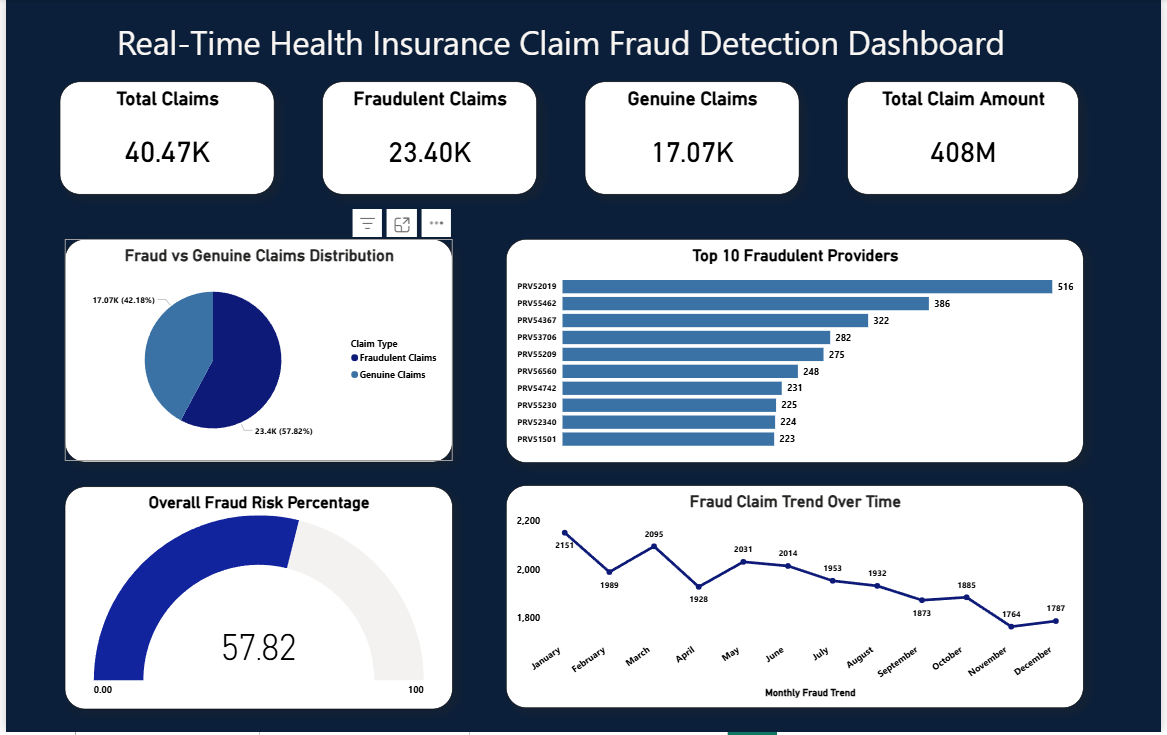

What the dashboard file says about the page in this screenshot:
{"tool":"powerbi","page":{"name":"Executive Dasboard","canvas":[1700,1080],"ordinal":0},"visuals":[{"type":"textbox","box":[23,24.9,1563.6,99.6],"z":0},{"type":"card","title":"Total Claims","fields":{"Values":["CountNonNull(Fraud_Detection_Output.ClaimID)"]},"box":[78.6,121.5,316.2,166.7],"z":1000},{"type":"card","title":"Fraudulent Claims","fields":{"Values":["CountNonNull(Fraud_Detection_Output.PotentialFraud)"]},"box":[465,121.5,316.2,166.7],"z":2000},{"type":"card","title":"Genuine Claims","fields":{"Values":["CountNonNull(Fraud_Detection_Output.PotentialFraud)"]},"box":[851.4,121.5,316.2,166.7],"z":3000},{"type":"card","title":"Total Claim Amount","fields":{"Values":["Sum(Fraud_Detection_Output.InscClaimAmtReimbursed)"]},"box":[1237.8,121.5,341.1,166.7],"z":4000},{"type":"pieChart","title":"Fraud vs Genuine Claims Distribution","fields":{"Category":["Fraud_Detection_Output.FraudStatus"],"Y":["CountNonNull(Fraud_Detection_Output.FraudStatus)"]},"box":[86.6,352.8,571.3,328.9],"z":5000},{"type":"clusteredBarChart","title":"Top 10 Fraudulent Providers","fields":{"Category":["Fraud_Detection_Output.Provider"],"Y":["CountNonNull(Fraud_Detection_Output.PotentialFraud)"]},"box":[735.8,352.6,850.8,329.6],"z":6000},{"type":"gauge","title":"Overall Fraud Risk Percentage","fields":{"Y":["Fraud_Detection_Output.Fraud Percentage"],"MaxValue":["Fraud_Detection_Output.Max Gauge"]},"box":[86.2,718.6,571,327.7],"z":7000},{"type":"lineChart","title":"Fraud Claim Trend Over Time","fields":{"Category":["Fraud_Detection_Output.ClaimStartDt.Variation.Date Hierarchy.Month"],"Y":["CountNonNull(Fraud_Detection_Output.ClaimID)"]},"box":[735.8,716.6,850.8,327.7],"z":8000}]}

Visuals, with their boxes in screenshot pixels (x1, y1, x2, y2), scaled from the page's 1700x1080 canvas onto the 1167x735 screenshot:
textbox: [16, 17, 1089, 85]
"Total Claims" card: [54, 83, 271, 196]
"Fraudulent Claims" card: [319, 83, 536, 196]
"Genuine Claims" card: [584, 83, 802, 196]
"Total Claim Amount" card: [850, 83, 1084, 196]
"Fraud vs Genuine Claims Distribution" pieChart: [59, 240, 452, 464]
"Top 10 Fraudulent Providers" clusteredBarChart: [505, 240, 1089, 464]
"Overall Fraud Risk Percentage" gauge: [59, 489, 451, 712]
"Fraud Claim Trend Over Time" lineChart: [505, 488, 1089, 711]
